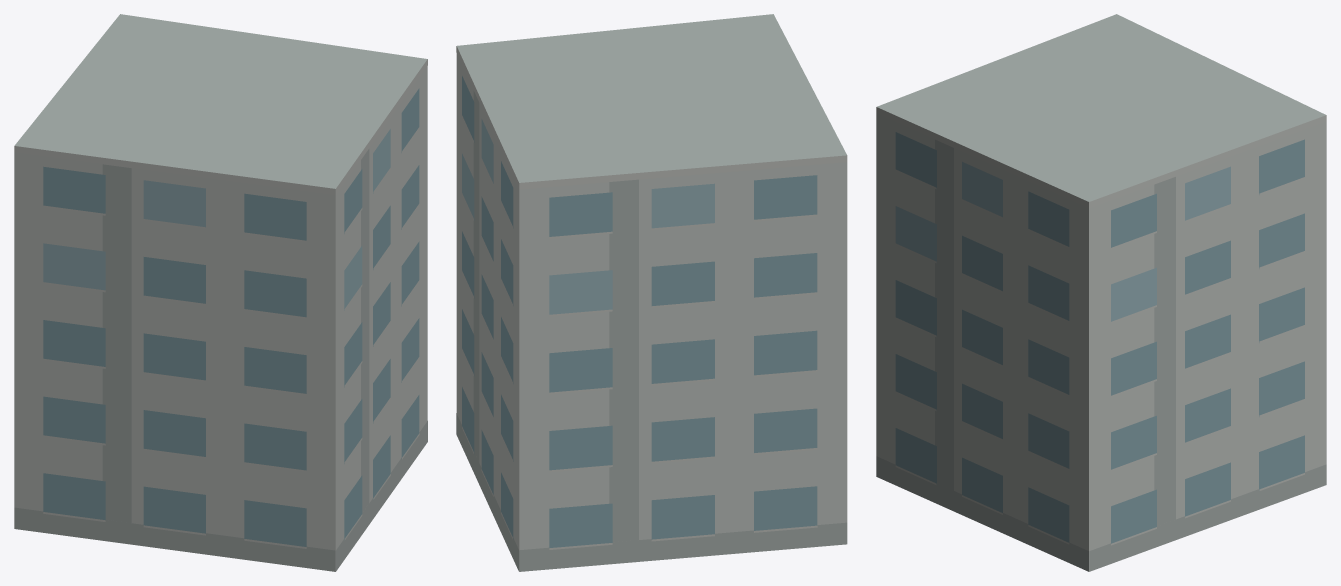
Rendered from survey-upis-32684482.glb.
3 views of the same model, side by side, from view 1: azimuth 30°, elevation 25°; view 2: azimuth 150°, elevation 25°; view 3: azimuth 270°, elevation 25° (orthographic). The views are drawn at different scales.
Visible parts, largest first — view 1: survey-upis-32684482.tmp; view 2: survey-upis-32684482.tmp; view 3: survey-upis-32684482.tmp.
Part boxes in pixels (x1,y1,x2,y2): survey-upis-32684482.tmp: [14, 14, 427, 571]; survey-upis-32684482.tmp: [456, 14, 847, 571]; survey-upis-32684482.tmp: [876, 14, 1326, 571].
Size of the model in its own units: 15.38 by 14.1 by 15.56.
